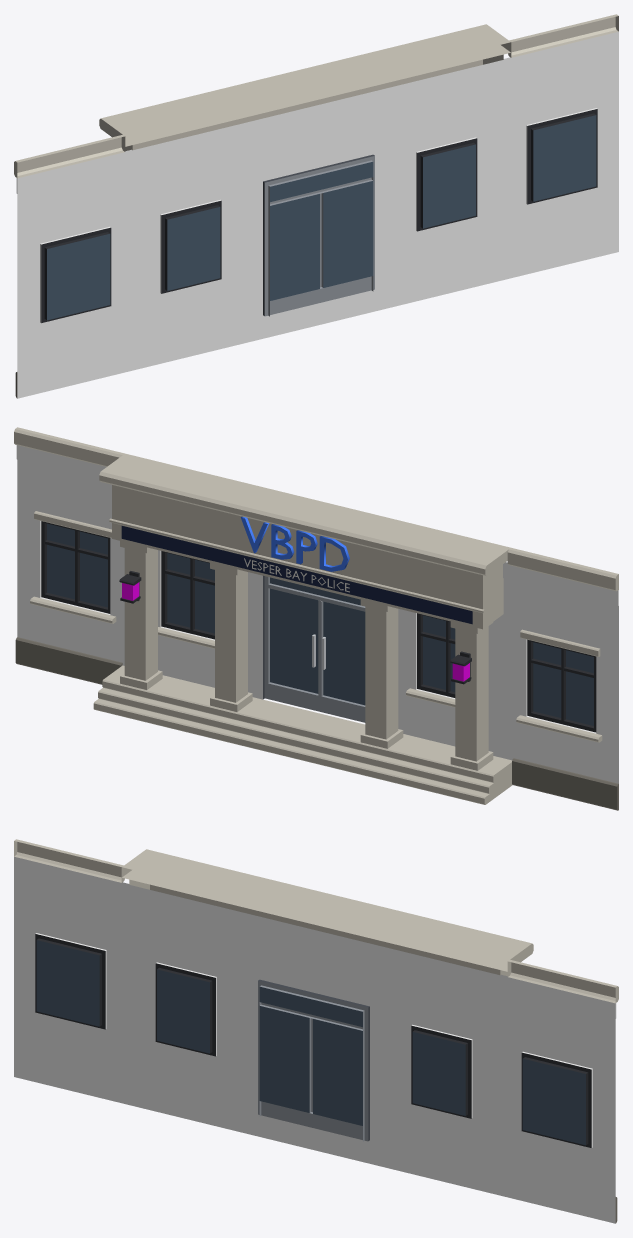
Rendered from front_police.glb.
3 renders of one model, top to bottom at view 1: azimuth 30°, elevation 25°; view 2: azimuth 150°, elevation 25°; view 3: azimuth 330°, elevation 25°, orthographic.
Parts seen in each view (by area): view 1: front_police__mesh; view 2: front_police__mesh; view 3: front_police__mesh.
Part boxes in pixels (x1,y1,x2,y2): front_police__mesh: (14, 14, 618, 398); front_police__mesh: (14, 427, 618, 810); front_police__mesh: (14, 839, 618, 1223).
Size of what is drawn, in the model's own units: 12 by 4.5 by 1.12.
2 materials, 1 textured.
